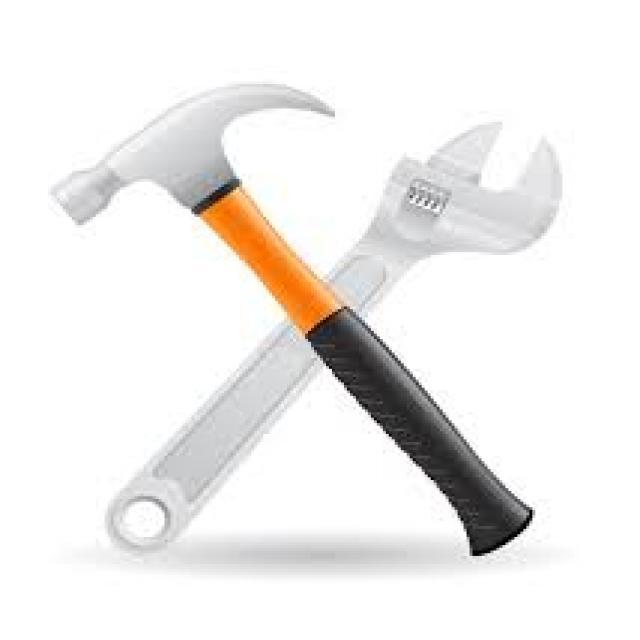hammer: (38, 70, 382, 388)
wrench: (290, 100, 584, 438)
